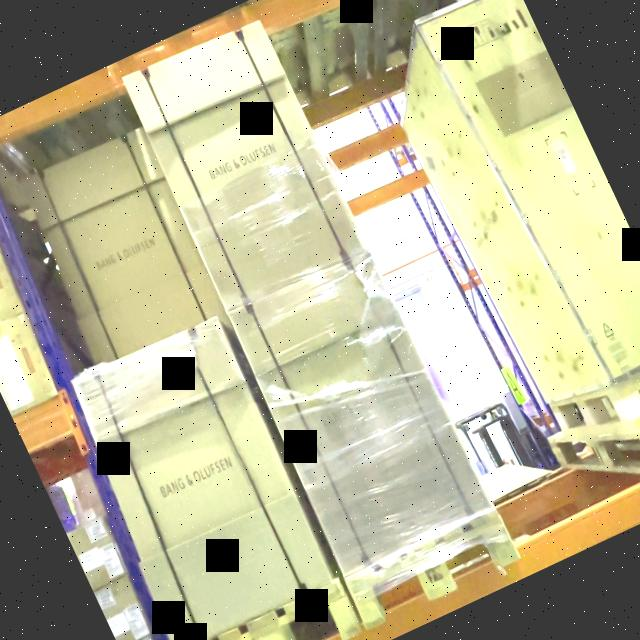box: (227, 247, 490, 576), (73, 316, 330, 640), (123, 20, 369, 313), (23, 128, 233, 367)
